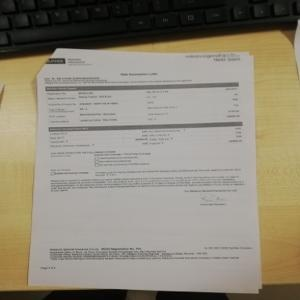table: (46, 121, 242, 164), (44, 81, 243, 120)
text: (45, 174, 253, 195)
